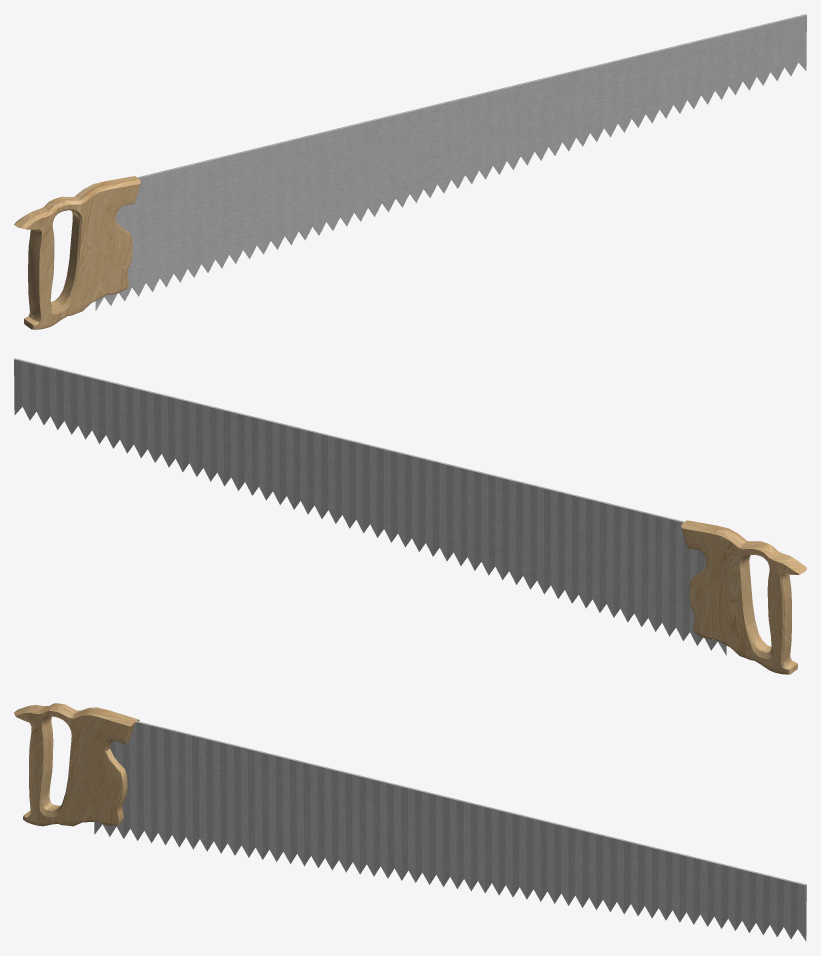
Rendered from handsaw.glb.
3 views of the same model, one above another, from view 1: azimuth 30°, elevation 25°; view 2: azimuth 150°, elevation 25°; view 3: azimuth 330°, elevation 25° (orthographic).
Visible parts, largest first — view 1: pCube3; view 2: pCube3; view 3: pCube3.
Part boxes in pixels (x1,y1,x2,y2): pCube3: (14,14,806,329); pCube3: (14,358,806,674); pCube3: (14,703,806,941).
Size of the model in its own units: 0.1642 by 0.0251 by 0.00352.
Materials: 2 (2 with a texture image).
